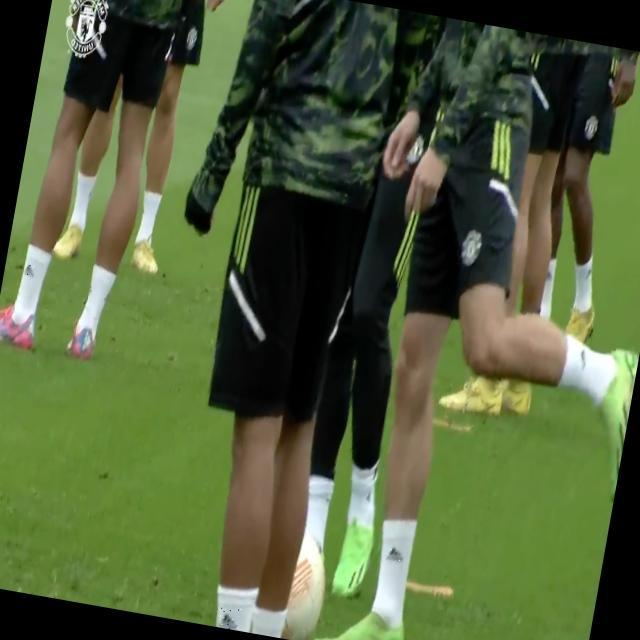Adidas: (216, 605, 241, 630), (385, 541, 406, 564), (21, 260, 39, 280)
